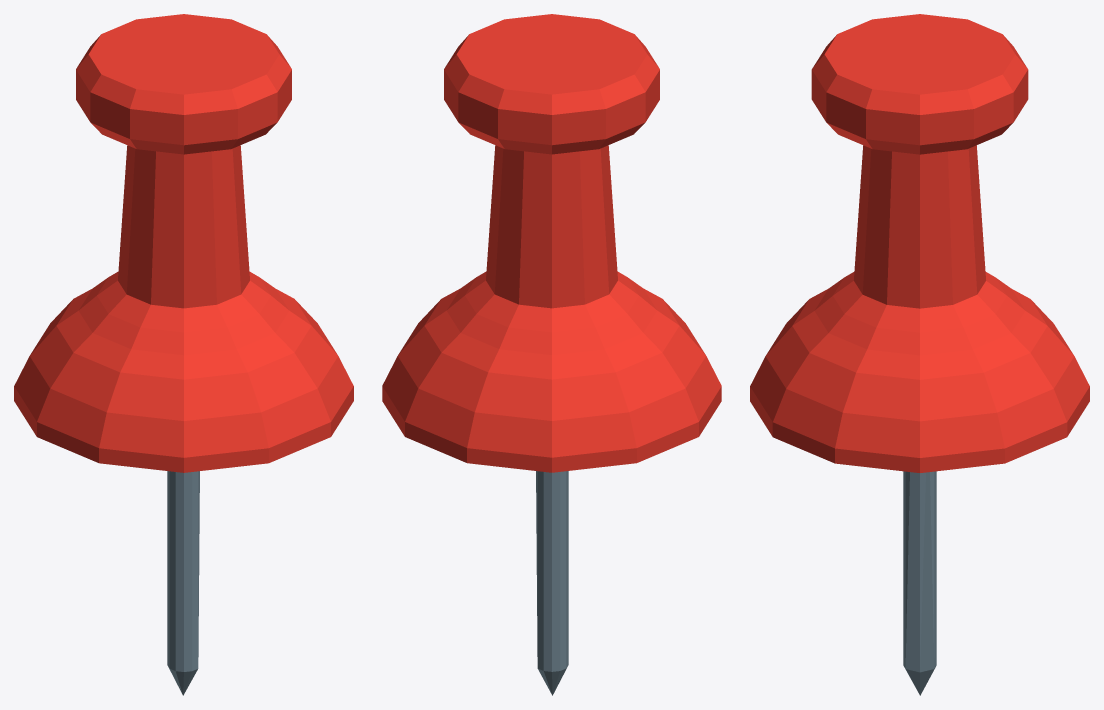
Rendered from picture-pin.glb.
The picture shows the model from 3 angles, left to right: view 1: azimuth 30°, elevation 25°; view 2: azimuth 150°, elevation 25°; view 3: azimuth 270°, elevation 25°; orthographic projection.
Visible parts, largest first — view 1: group1686366653; view 2: group1686366653; view 3: group1686366653.
Part boxes in pixels (x1,y1,x2,y2): group1686366653: [14, 14, 353, 695]; group1686366653: [382, 14, 721, 695]; group1686366653: [750, 14, 1089, 695].
Bounding box in the file's own units: 0.0956 × 0.1993 × 0.0956.
